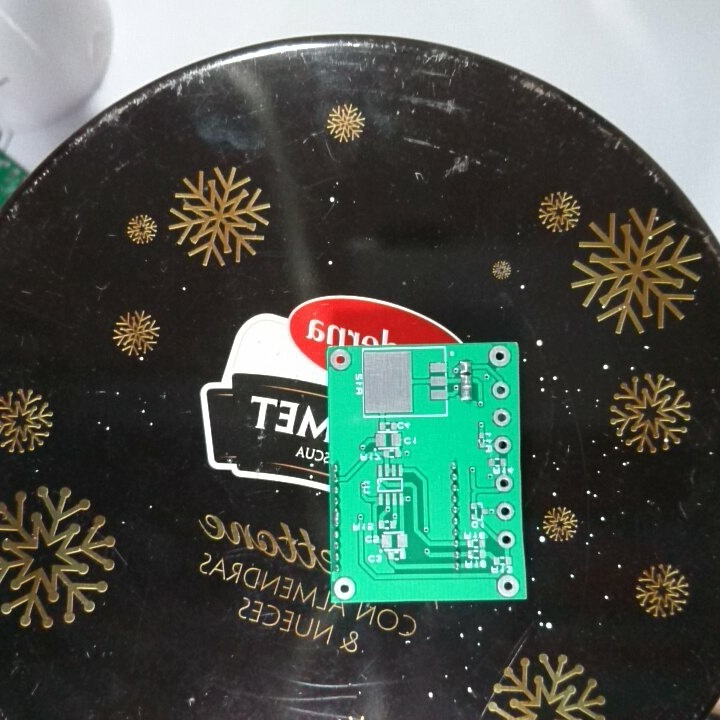F: (328, 347, 355, 374), (494, 572, 522, 598), (486, 344, 514, 369), (332, 575, 358, 600), (492, 472, 517, 495), (490, 379, 513, 402), (491, 406, 514, 429), (494, 500, 517, 523), (491, 434, 514, 456), (495, 528, 517, 549)
P: (458, 373, 474, 403), (331, 506, 342, 529)
